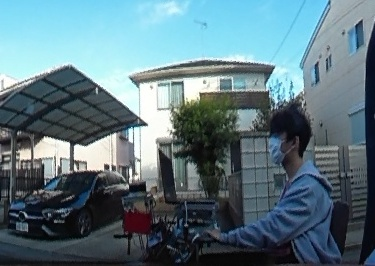person: (225, 98, 316, 266)
